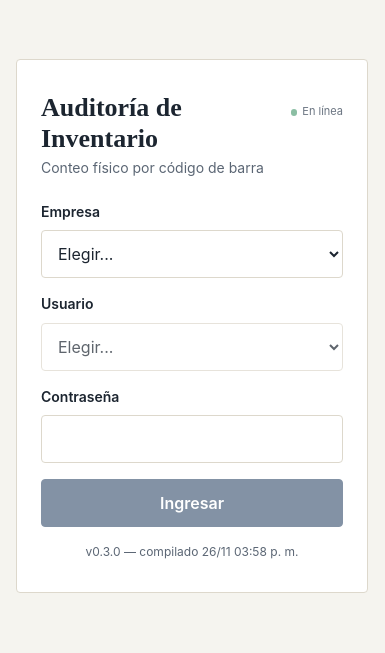
LoginPage › sin conexión, usa los usuarios guardados de la empresa elegida
The width and height of the screenshot is (385, 653).
Select "Depor (Testing)" in the dropdown labelled "Empresa" at (192, 254), box [41,230,343,278]
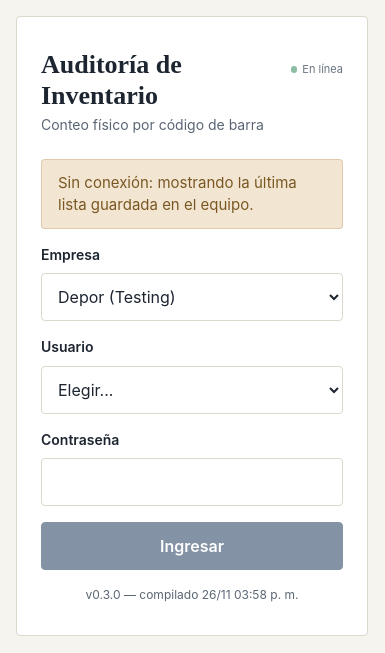
Result: the message shows "Sin conexión" at [58,173,297,214]
